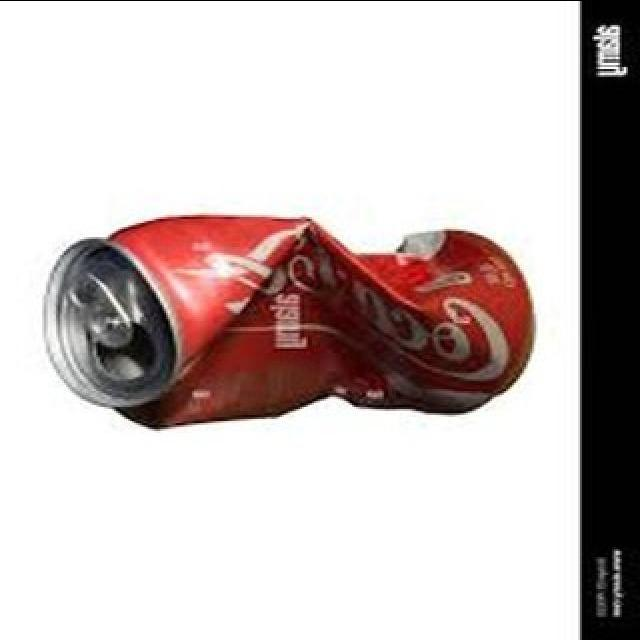can: (34, 204, 536, 443)
